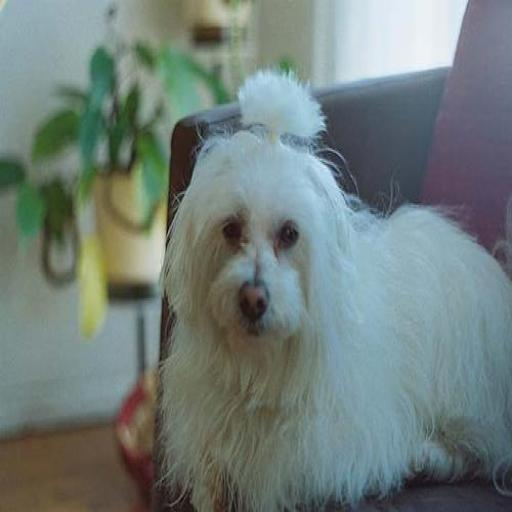dog_face: (158, 83, 351, 354)
